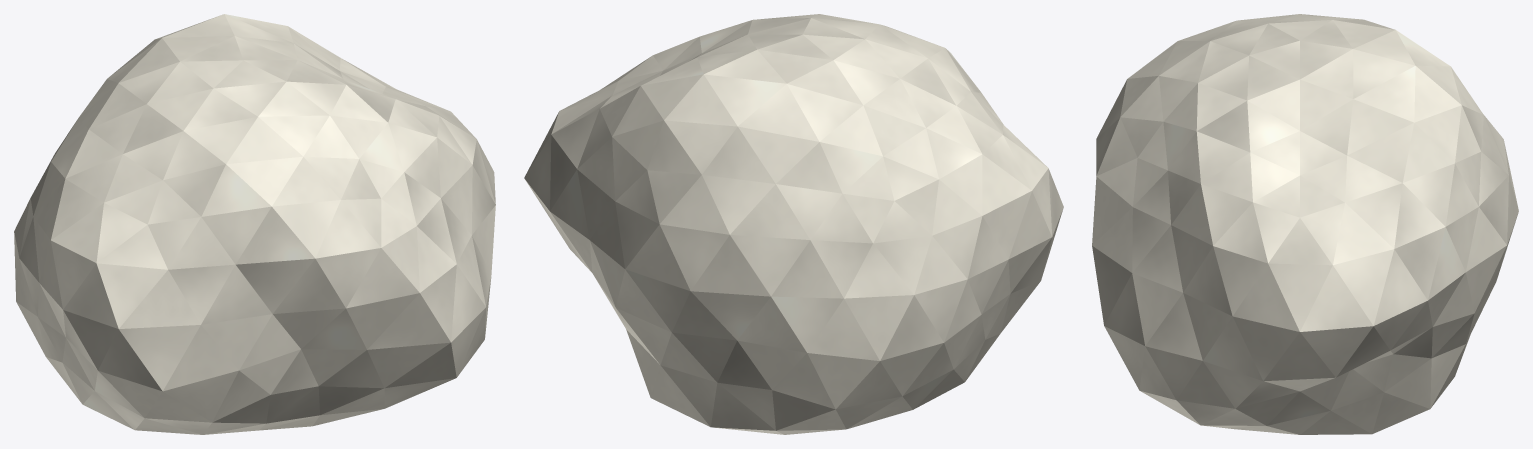
The model's file is limestone_rock_a.fbx.
3 views of the same model, side by side, from view 1: azimuth 30°, elevation 25°; view 2: azimuth 150°, elevation 25°; view 3: azimuth 270°, elevation 25° (orthographic). The views are drawn at different scales.
Visible parts, largest first — view 1: limestone_rock_a_Rock; view 2: limestone_rock_a_Rock; view 3: limestone_rock_a_Rock.
Boxes of the visible parts, bbox=[...] form: limestone_rock_a_Rock: bbox=[14, 14, 495, 434]; limestone_rock_a_Rock: bbox=[524, 14, 1063, 434]; limestone_rock_a_Rock: bbox=[1092, 14, 1518, 434].
Bounding box in the file's own units: 6 × 4.3 × 4.84.
1 material, 1 textured.
